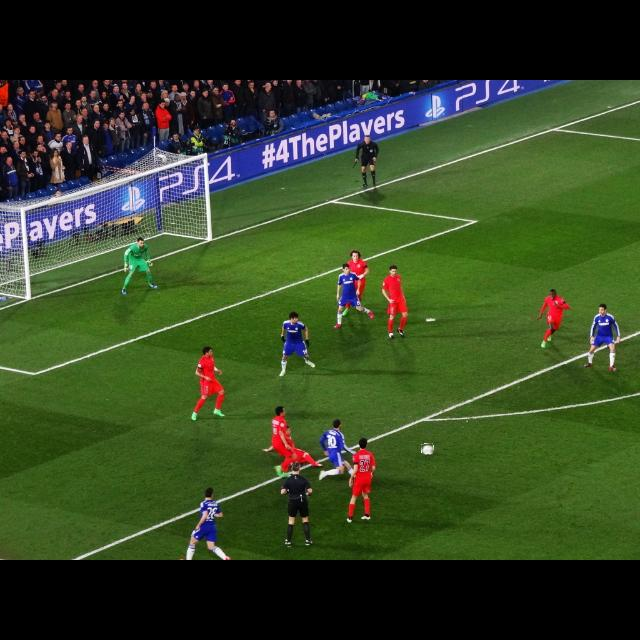Football: (422, 444, 434, 454)
